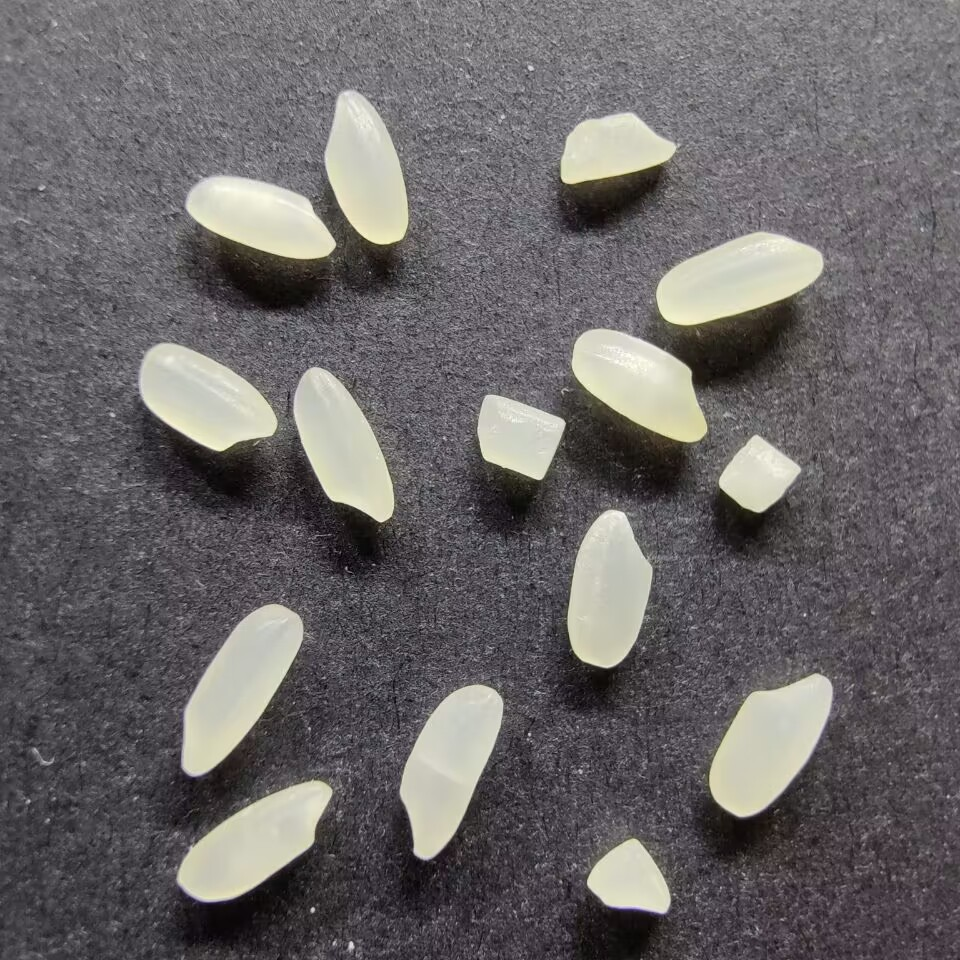broken: (555, 109, 679, 187), (475, 392, 573, 483), (714, 431, 803, 515), (585, 837, 673, 916)
rice: (177, 602, 306, 779), (394, 682, 506, 863), (172, 777, 332, 903), (705, 669, 835, 819), (290, 365, 399, 524), (652, 228, 826, 327), (568, 325, 709, 445), (136, 341, 278, 454), (321, 88, 413, 247), (564, 509, 654, 669), (183, 174, 338, 262)
